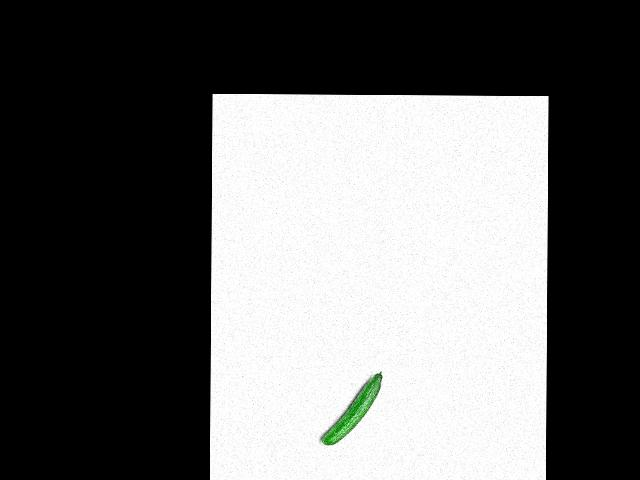cucumber: (321, 369, 382, 445)
